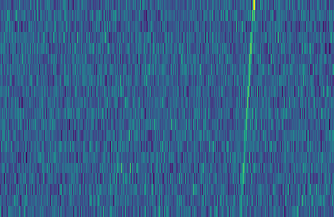signal: (237, 0, 259, 217)
